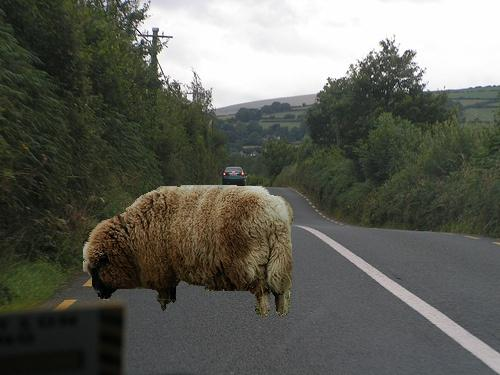tampered: (84, 186, 294, 317)
